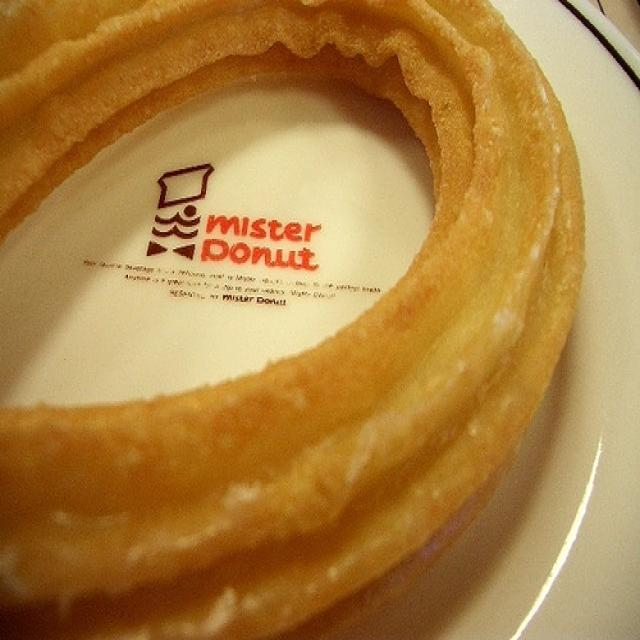炸货点心: (16, 17, 560, 628)
